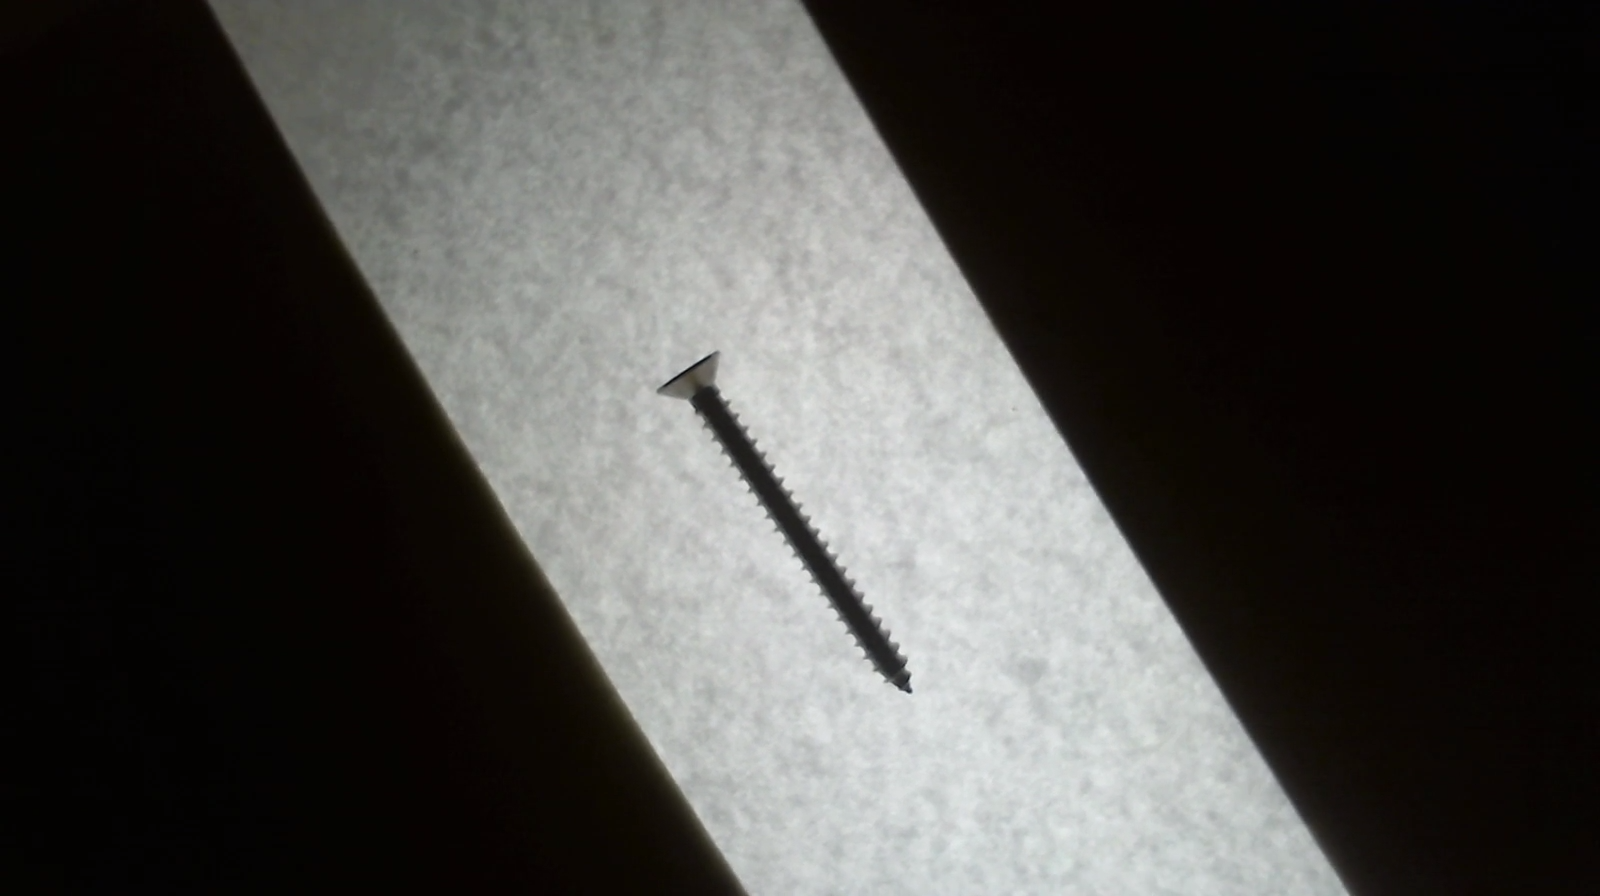S002: (646, 346, 918, 701)
